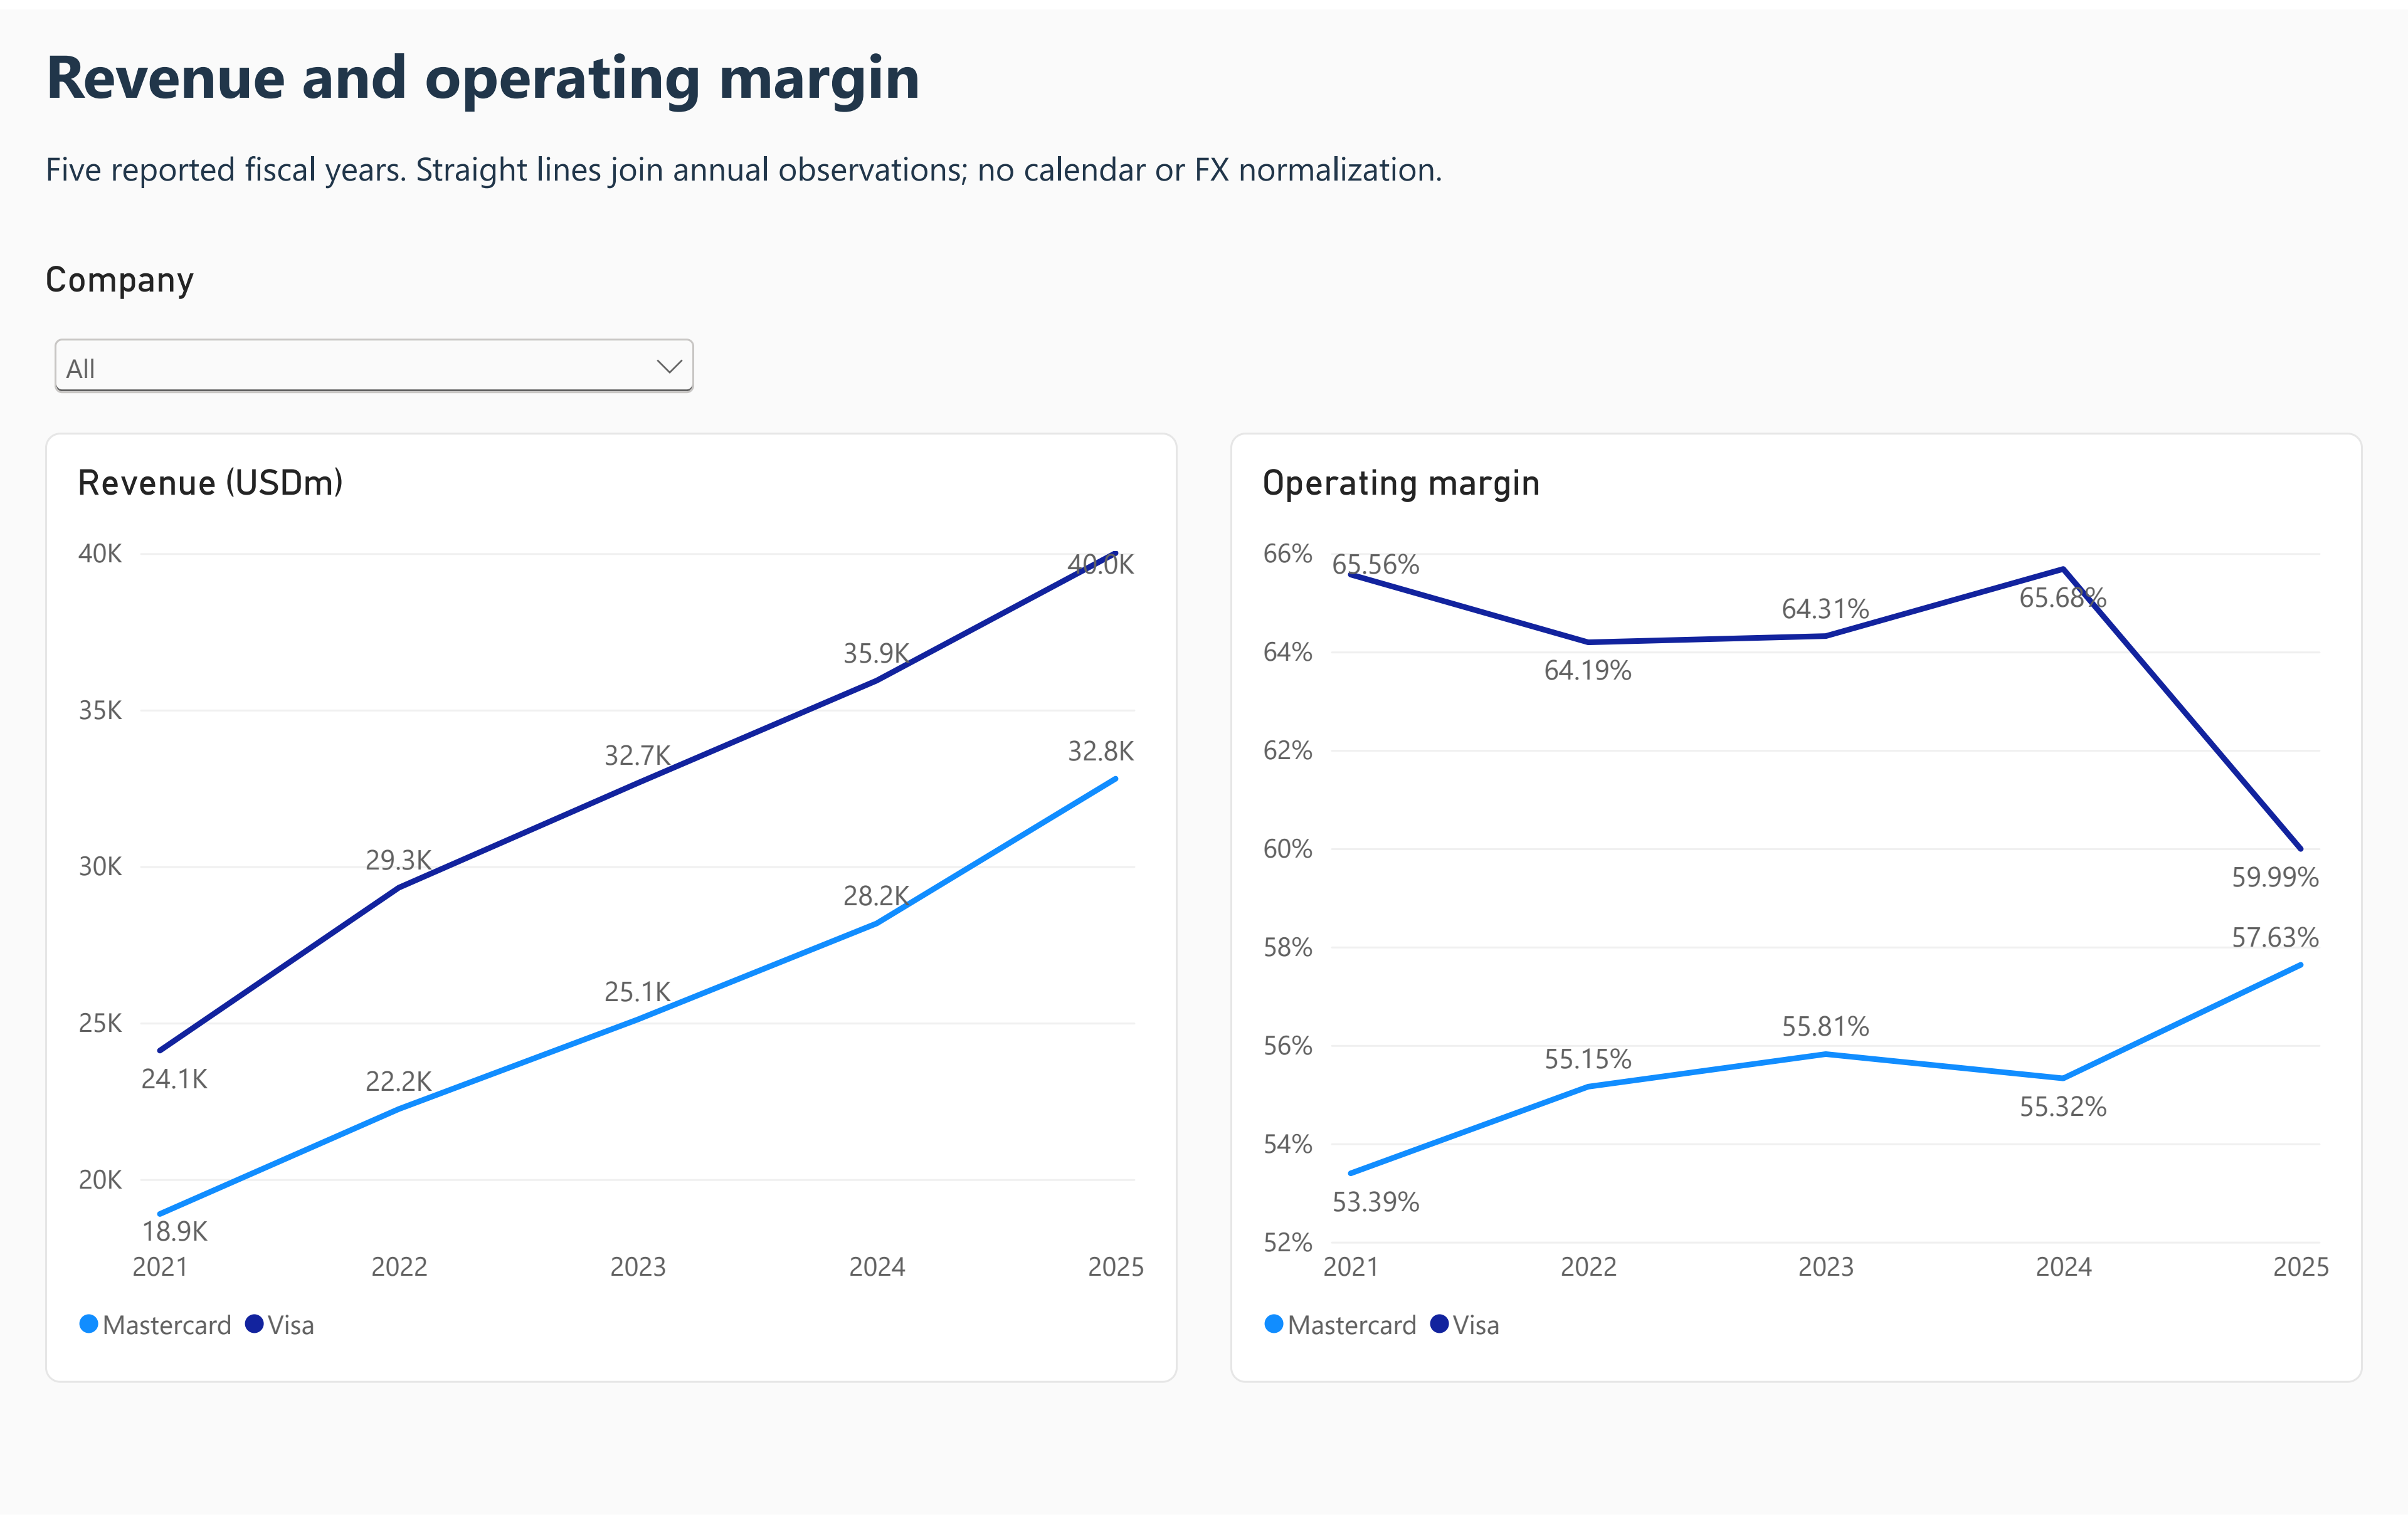

What the dashboard file says about the page in this screenshot:
{"tool":"powerbi","page":{"name":"02 Performance Trends","canvas":[1280,800],"ordinal":1},"visuals":[{"type":"lineChart","title":"Revenue (USDm)","fields":{"Category":["FiscalYears.FiscalYear"],"Series":["Companies.CompanyName"],"Y":["Financials.Revenue (USDm)"]},"box":[24,225,602,505],"z":0},{"type":"slicer","title":"Company","fields":{"Values":["Companies.CompanyName"]},"box":[24,132,350,80],"z":3000},{"type":"lineChart","title":"Operating margin","fields":{"Category":["FiscalYears.FiscalYear"],"Series":["Companies.CompanyName"],"Y":["Financials.Operating Margin"]},"box":[654,225,602,505],"z":3001},{"type":"textbox","box":[24,12,1232,58],"z":8000},{"type":"textbox","box":[24,72,1232,48],"z":8000}]}

Visuals, with their boxes in screenshot pixels (x1, y1, x2, y2), scaled from the page's 1280x800 canvas onto the 2408x1524 screenshot:
"Revenue (USDm)" lineChart: [45, 429, 1178, 1390]
"Company" slicer: [45, 251, 704, 404]
"Operating margin" lineChart: [1230, 429, 2363, 1390]
textbox: [45, 23, 2363, 134]
textbox: [45, 137, 2363, 229]
